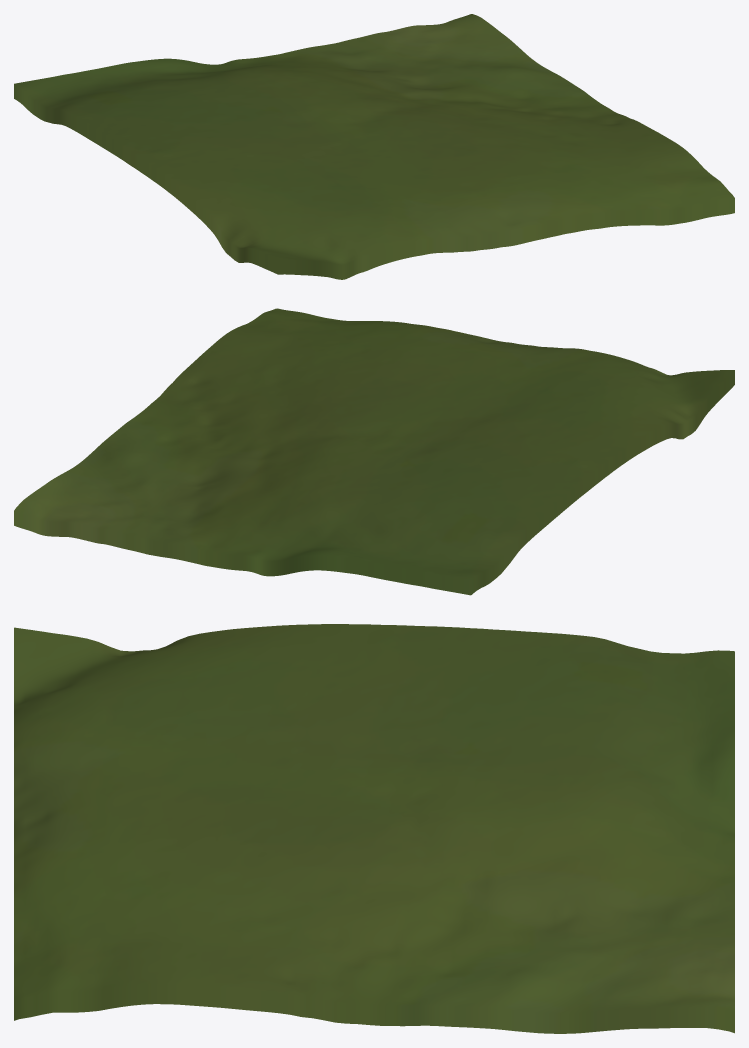
The model's file is terrain_8_-23.glb.
3 renders of one model, top to bottom at view 1: azimuth 30°, elevation 25°; view 2: azimuth 150°, elevation 25°; view 3: azimuth 270°, elevation 25°, orthographic. The views are drawn at different scales.
Visible parts, largest first — view 1: terrain_8_-23; view 2: terrain_8_-23; view 3: terrain_8_-23.
Part boxes in pixels (x1=…): terrain_8_-23: x1=14, y1=14, x2=734, y2=279; terrain_8_-23: x1=14, y1=308, x2=734, y2=595; terrain_8_-23: x1=14, y1=624, x2=734, y2=1033.
Size of the model in its own units: 256 by 42.41 by 256.
